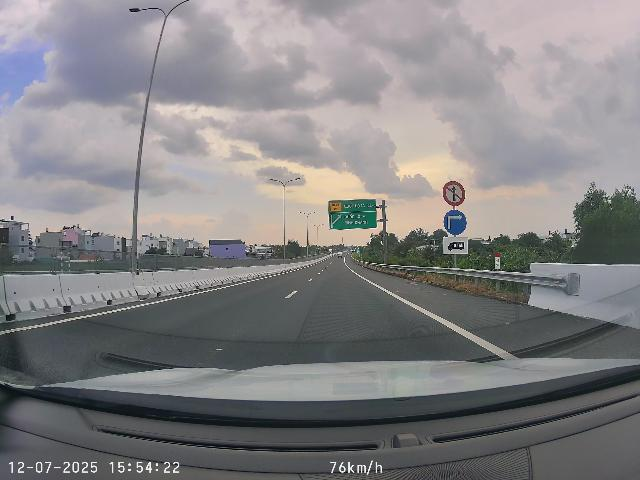136-cam-di-thang: (442, 180, 466, 207)
301d-cac-xe-chi-duoc-re-phai-2: (444, 209, 467, 235)
